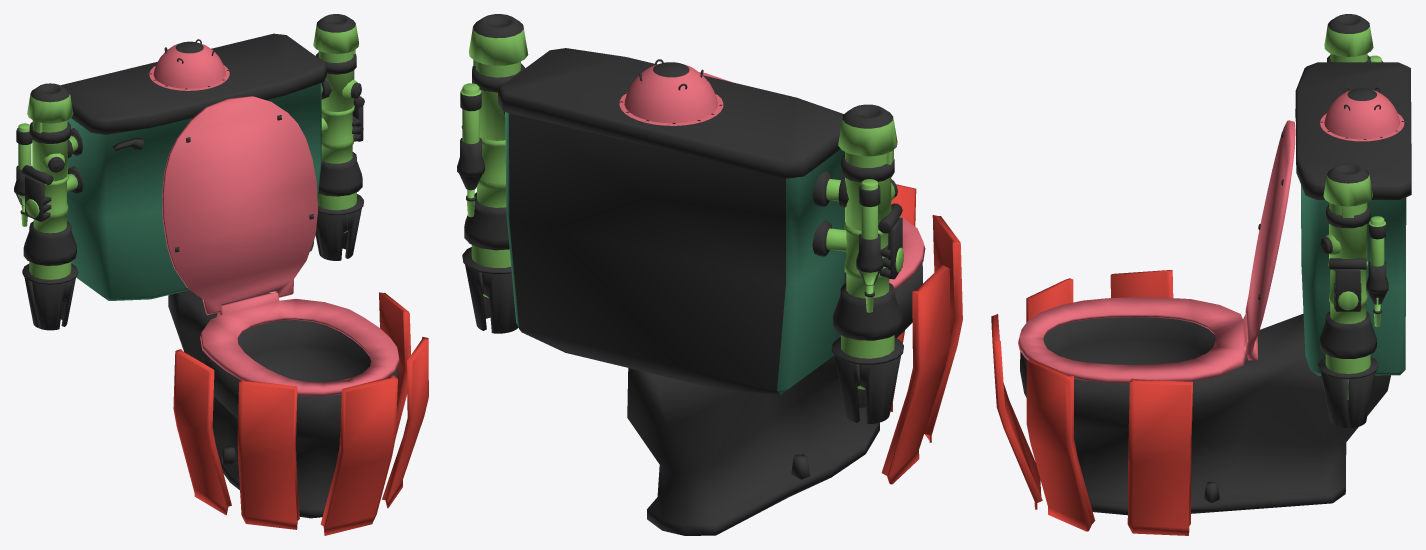
Rendered from toilet_03.glb.
3 renders of one model, left to right at view 1: azimuth 30°, elevation 25°; view 2: azimuth 150°, elevation 25°; view 3: azimuth 270°, elevation 25°, orthographic. The views are drawn at different scales.
Visible parts, largest first — view 1: toilet_03; view 2: toilet_03; view 3: toilet_03.
Part boxes in pixels (box(x1,y1,x2,y2)): toilet_03: box(14, 14, 428, 535); toilet_03: box(457, 14, 962, 535); toilet_03: box(991, 14, 1411, 535).
Size of the model in its own units: 1.31 by 1.4 by 1.33.
